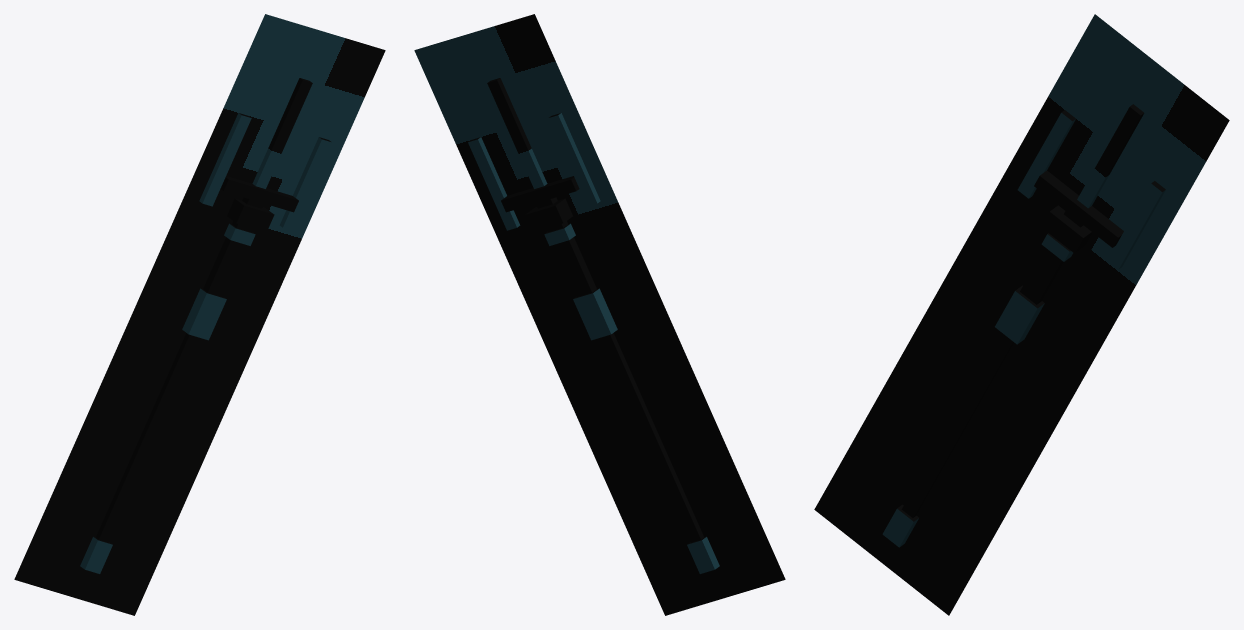
The model's file is trident.obj.
3 views of the same model, side by side, from view 1: azimuth 30°, elevation 25°; view 2: azimuth 150°, elevation 25°; view 3: azimuth 330°, elevation 25° (orthographic). The views are drawn at different scales.
Visible parts, largest first — view 1: Object_4, Object_24, Object_10, Object_18, Object_6, Object_8, Object_22, Object_14, Object_16, Object_12; view 2: Object_4, Object_24, Object_10, Object_18, Object_6, Object_8, Object_22, Object_14, Object_16, Object_12; view 3: Object_4, Object_24, Object_14, Object_10, Object_8, Object_6, Object_22, Object_18, Object_16, Object_12.
Boxes of the visible parts, x1=… form: Object_4: x1=14, y1=14, x2=385, y2=615; Object_24: x1=95, y1=333, x2=199, y2=542; Object_10: x1=252, y1=78, x2=312, y2=188; Object_18: x1=203, y1=197, x2=263, y2=296; Object_6: x1=199, y1=113, x2=251, y2=206; Object_8: x1=279, y1=137, x2=331, y2=230; Object_22: x1=182, y1=288, x2=226, y2=340; Object_14: x1=220, y1=176, x2=298, y2=212; Object_16: x1=227, y1=198, x2=274, y2=232; Object_12: x1=80, y1=536, x2=112, y2=573; Object_4: x1=414, y1=14, x2=785, y2=615; Object_24: x1=600, y1=333, x2=704, y2=542; Object_10: x1=487, y1=78, x2=547, y2=188; Object_18: x1=536, y1=197, x2=596, y2=296; Object_6: x1=548, y1=113, x2=600, y2=206; Object_8: x1=468, y1=137, x2=520, y2=230; Object_22: x1=573, y1=288, x2=617, y2=340; Object_14: x1=501, y1=176, x2=579, y2=212; Object_16: x1=525, y1=198, x2=572, y2=232; Object_12: x1=687, y1=536, x2=719, y2=573; Object_4: x1=814, y1=14, x2=1229, y2=615; Object_24: x1=901, y1=333, x2=1014, y2=517; Object_14: x1=1034, y1=170, x2=1123, y2=247; Object_10: x1=1077, y1=104, x2=1144, y2=208; Object_8: x1=1107, y1=181, x2=1165, y2=269; Object_6: x1=1017, y1=110, x2=1075, y2=198; Object_22: x1=995, y1=285, x2=1044, y2=344; Object_18: x1=1020, y1=211, x2=1083, y2=304; Object_16: x1=1041, y1=205, x2=1092, y2=253; Object_12: x1=882, y1=504, x2=918, y2=547.
Size of the model in its own units: 2.05 by 3.01 by 0.1875.
